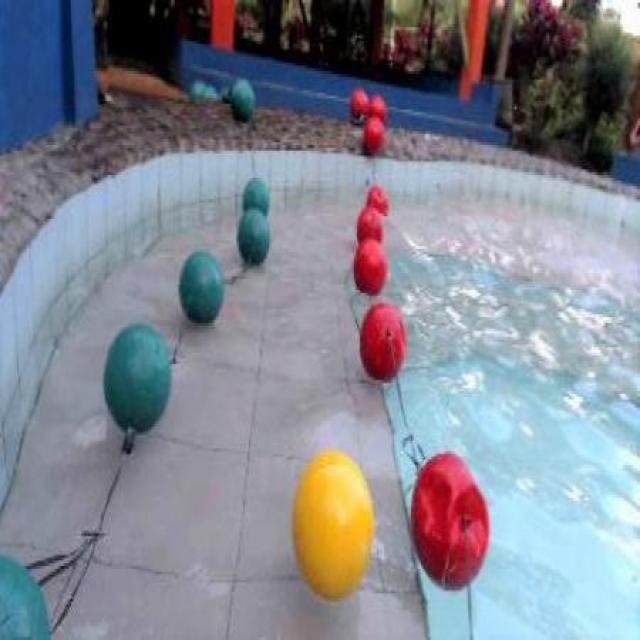buoy: (291, 450, 373, 600), (411, 449, 488, 591), (101, 323, 172, 432), (1, 555, 52, 637), (358, 302, 406, 382), (176, 249, 224, 326), (237, 205, 271, 266), (353, 236, 387, 294), (241, 177, 270, 223), (356, 205, 384, 249), (228, 79, 254, 123), (363, 114, 385, 153), (366, 182, 388, 218), (349, 88, 368, 120), (368, 93, 386, 126)
